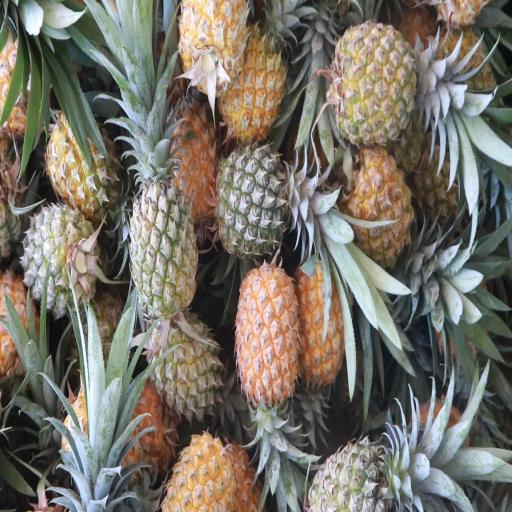------------------------------: (127, 146, 194, 311), (331, 25, 423, 145), (150, 313, 222, 416), (48, 108, 117, 214)
Pineapple - v8 v1: (235, 263, 301, 404), (344, 149, 413, 264), (161, 86, 223, 212), (223, 29, 286, 138), (298, 263, 352, 388), (179, 0, 248, 82), (165, 438, 238, 512)
